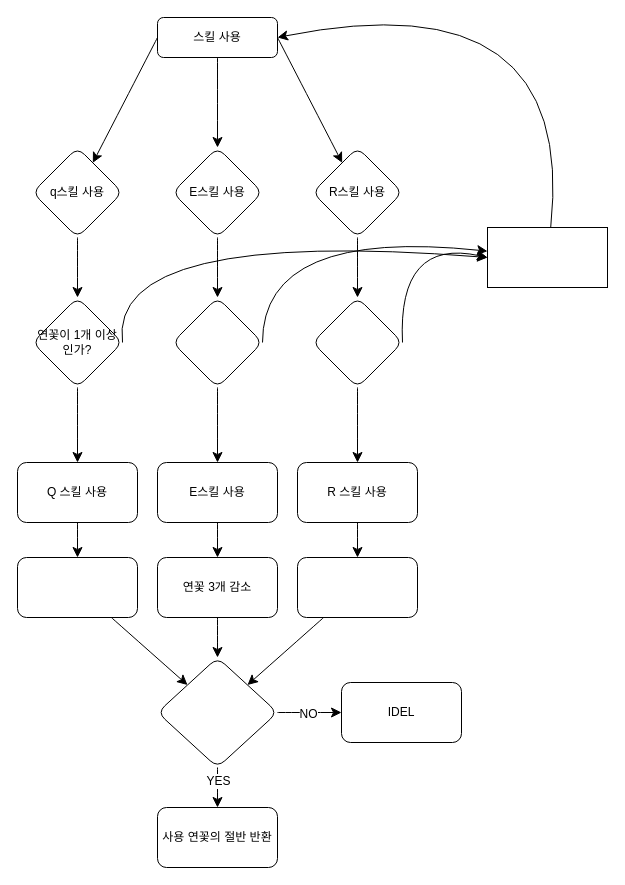
The diagram is 625 pixels wide and 885 high, and some of its shapes have lost their labels. Each missing label, with the box of its shape:
공격 성공했는가?: (156, 656, 278, 768)
스킬 사용 불가: (486, 226, 608, 288)
연꽃 1개 감소: (16, 556, 138, 618)
연꽃 5개 감소: (296, 556, 418, 618)
연꽃이 3개 이상인가?: (172, 296, 262, 388)
연꽃이 5개 이상인가?: (312, 296, 402, 388)
